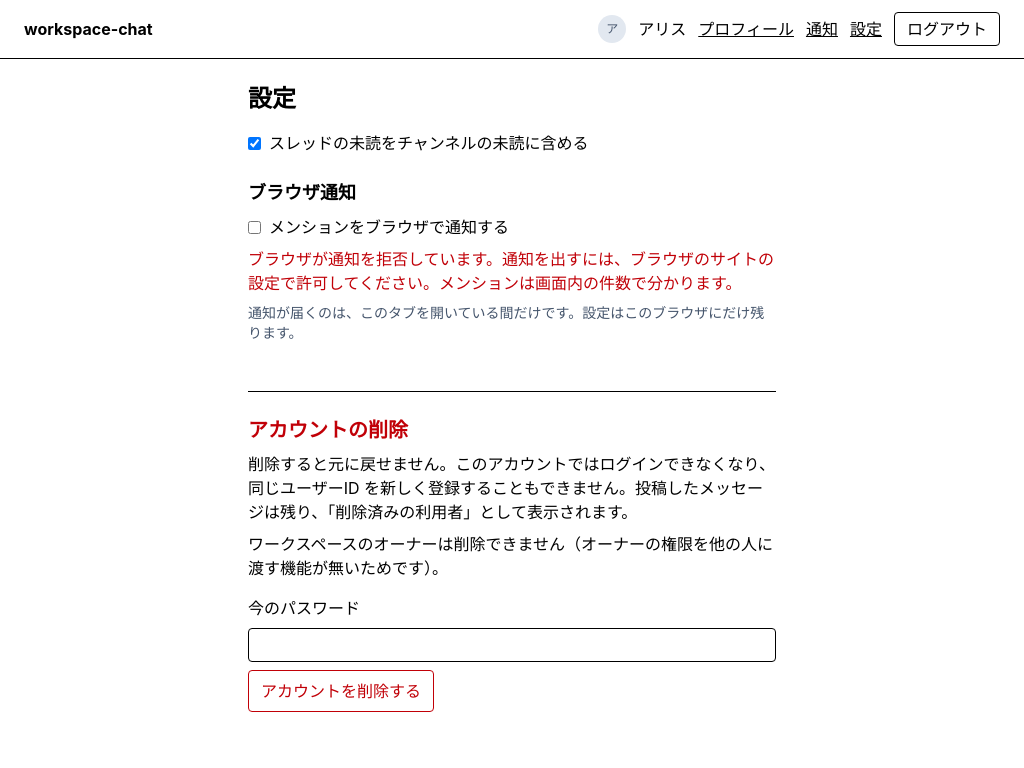
Test: アカウントの削除（F-36） › 確かめたらパスワードを送り、削除できたらログインしていない状態にしてログインの画面へ移る
This screenshot has width=1024, height=768.
Expected: the heading "設定" is shown, [248,84,296,113]
Expected: the checkbox labelled "スレッドの未読をチャンネルの未読に含める" is shown, [248,136,261,150]
In the password field labelled "今のパスワード": (512, 645) [248,628,776,662], type "current-password"
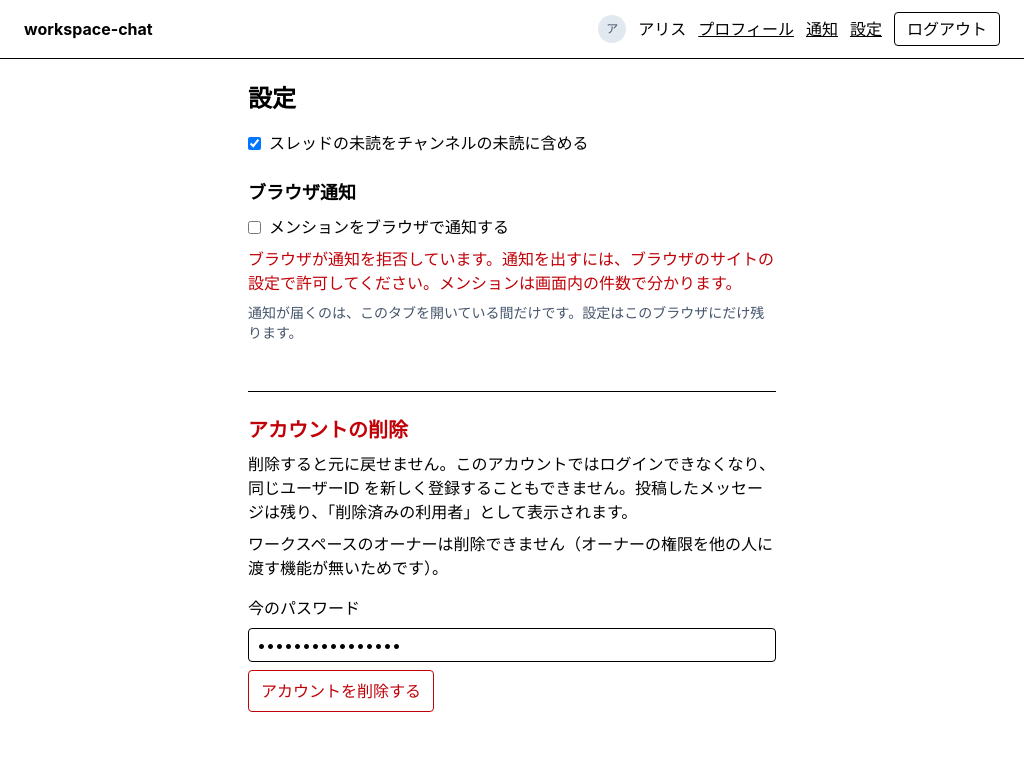
Click the button "アカウントを削除する": (341, 691) [248,670,434,712]
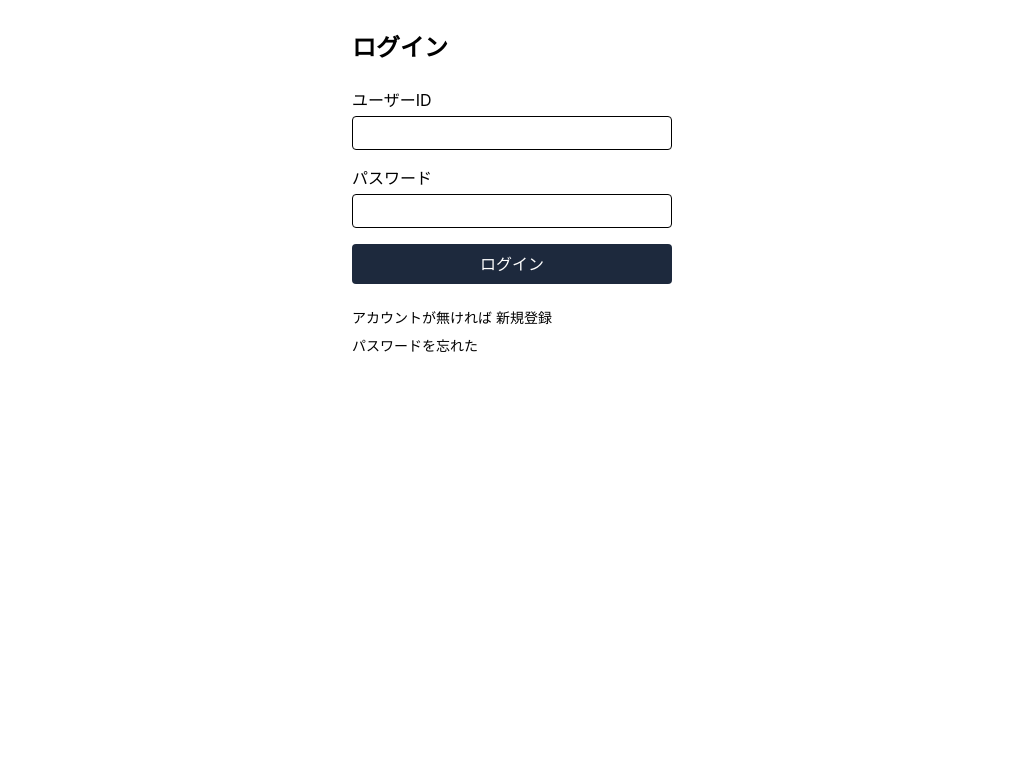
Result: the heading "ログイン" is shown at [352,33,448,62]
